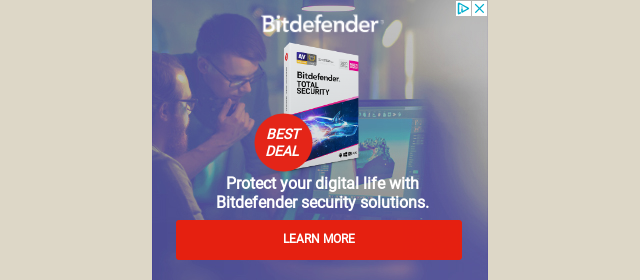fake_button: (169, 216, 473, 266)
